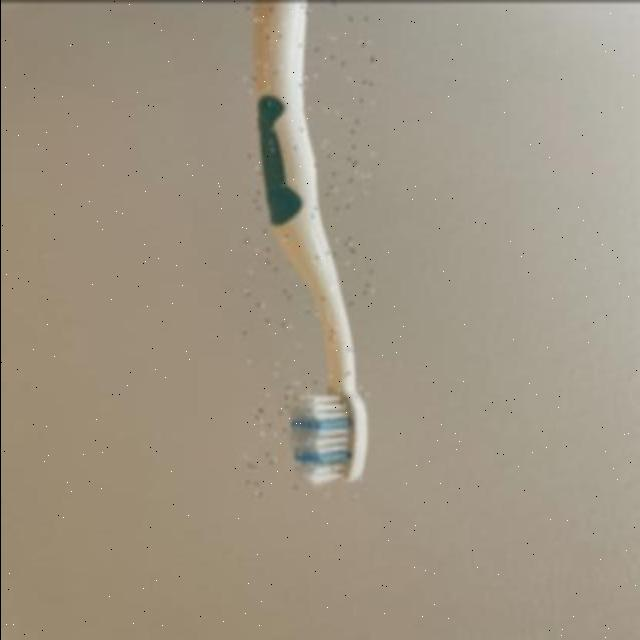toothbrush: (244, 1, 372, 496)
